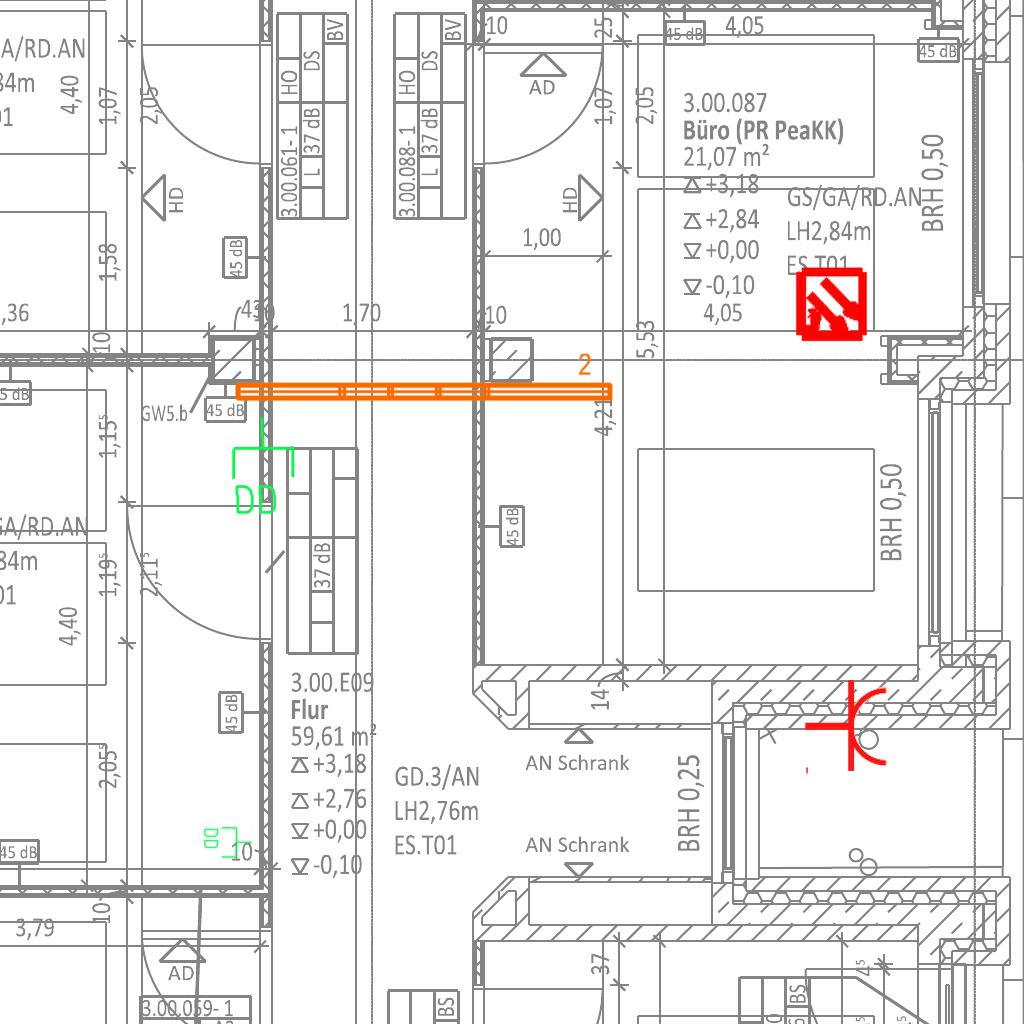Ambulanz_Pendelleuchte_LED: (230, 351, 617, 407)
Datenanschluss_zweifach: (227, 414, 298, 519), (202, 825, 253, 859)
OT_Multisensormelder_(Kombination_RMO_WMD): (775, 250, 888, 363)
Schukosteckdose_einfach: (803, 678, 890, 778)
